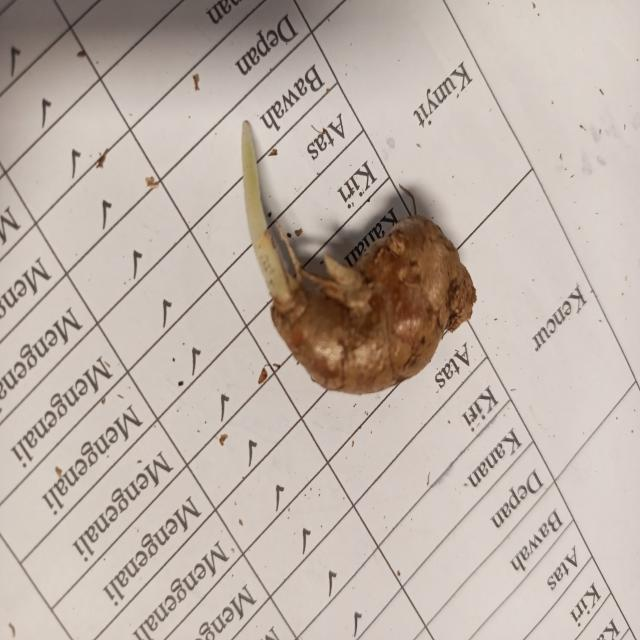ginger: (275, 220, 462, 382)
